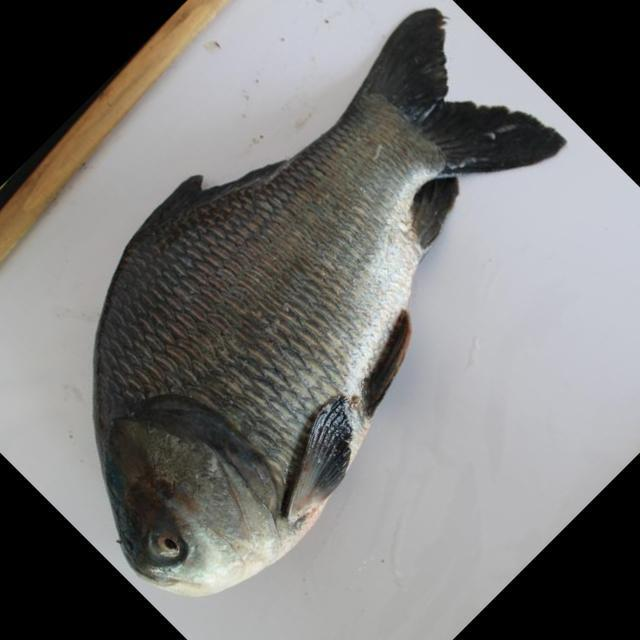Catla: (51, 14, 574, 595)
